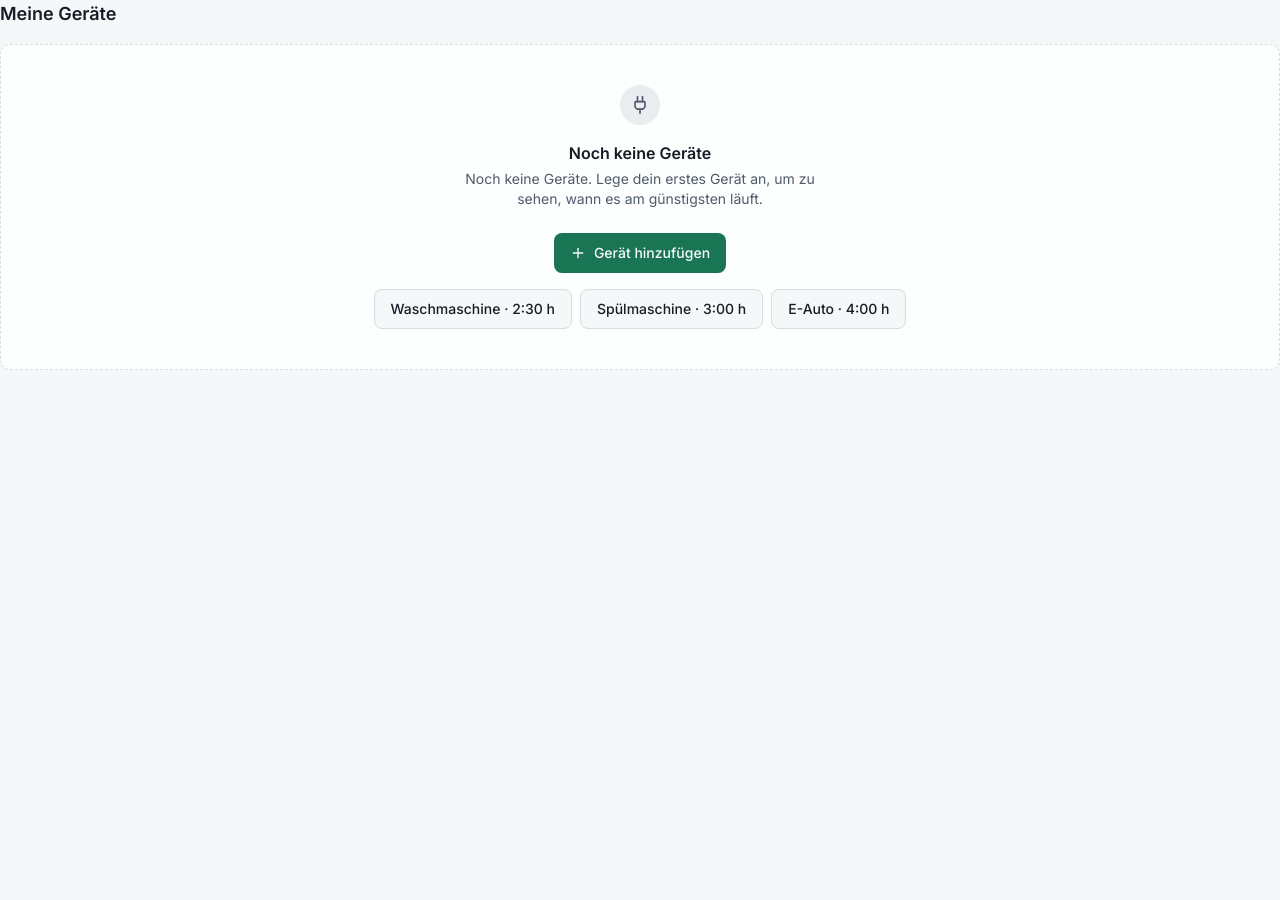
DevicesPanel — saving › keeps the dialog open with the message when saving fails or the connection drops (AC-24)
The width and height of the screenshot is (1280, 900).
Click the button "Waschmaschine · 2:30 h": [473, 309] box left=374, top=289, right=572, bottom=329
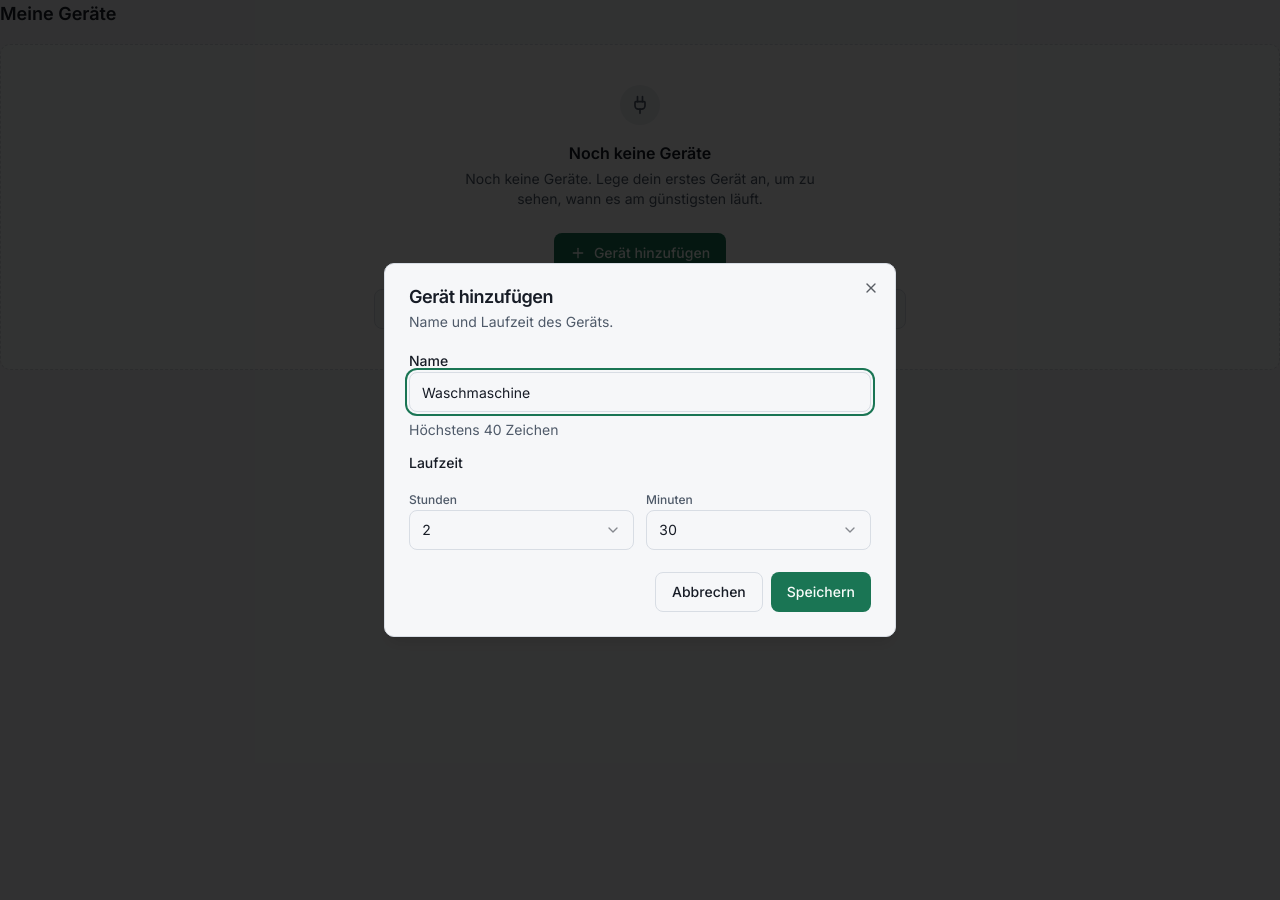
Click the button "Speichern": [821, 592] box left=771, top=572, right=871, bottom=612
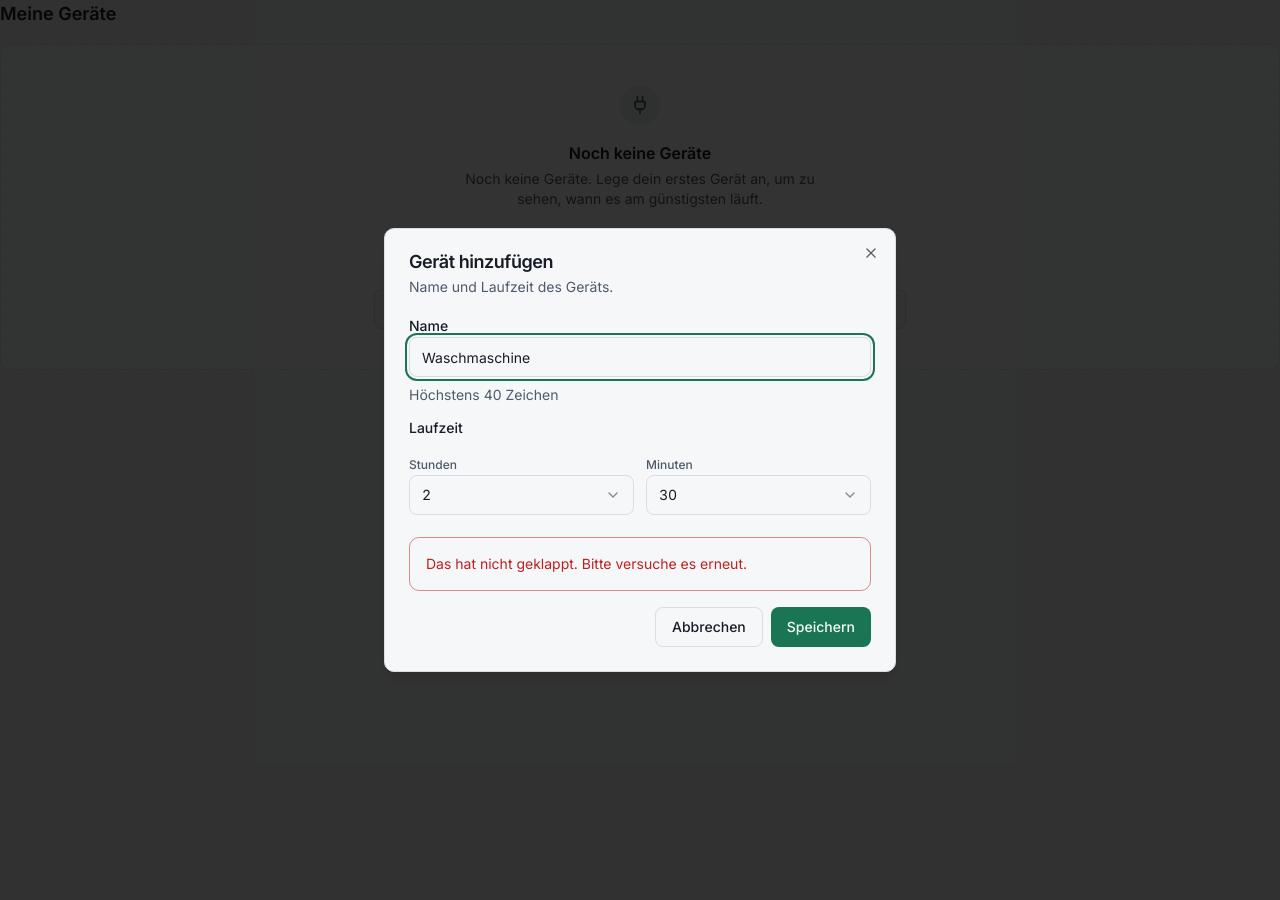
Now the field labelled "Name" holds "Waschmaschine", box left=409, top=337, right=871, bottom=377
Now the text "Das hat nicht geklappt. Bitte versuche es erneut." is shown, box left=426, top=555, right=747, bottom=572
